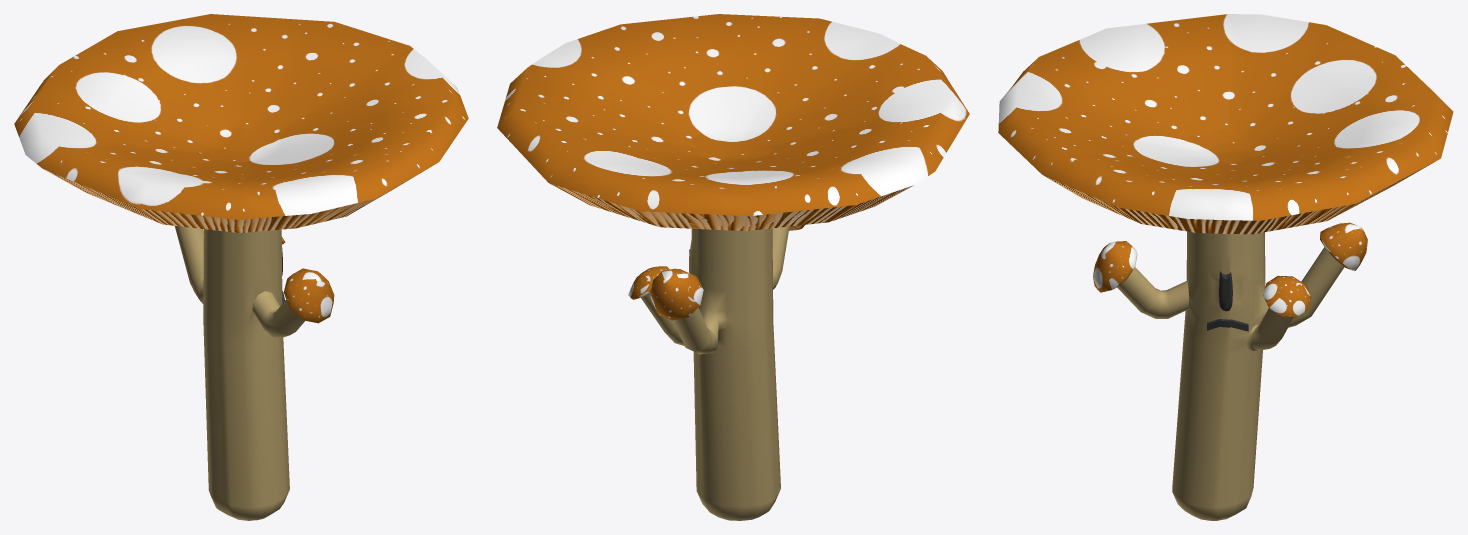
File: mushroomBoi_spawn.fbx
3 views of the same model, side by side, from view 1: azimuth 30°, elevation 25°; view 2: azimuth 150°, elevation 25°; view 3: azimuth 270°, elevation 25° (orthographic). The views are drawn at different scales.
Visible parts, largest first — view 1: mushroomBoi_spawnerCap, mushroomBoi_spawn, mushroomBoi_spawnerRidges; view 2: mushroomBoi_spawnerCap, mushroomBoi_spawn, mushroomBoi_spawnerRidges; view 3: mushroomBoi_spawnerCap, mushroomBoi_spawn, mushroomBoi_spawnerRidges.
Boxes of the visible parts, x1,y1,x2,y2 form: mushroomBoi_spawnerCap: (14,14,468,323); mushroomBoi_spawn: (174,226,305,520); mushroomBoi_spawnerRidges: (44,164,435,244); mushroomBoi_spawnerCap: (497,14,969,320); mushroomBoi_spawn: (641,226,789,520); mushroomBoi_spawnerRidges: (549,183,913,296); mushroomBoi_spawnerCap: (998,14,1453,317); mushroomBoi_spawn: (1117,231,1344,520); mushroomBoi_spawnerRidges: (1043,159,1439,234).
Size of the model in its own units: 261 by 253 by 257.
4 materials, 2 textured.
